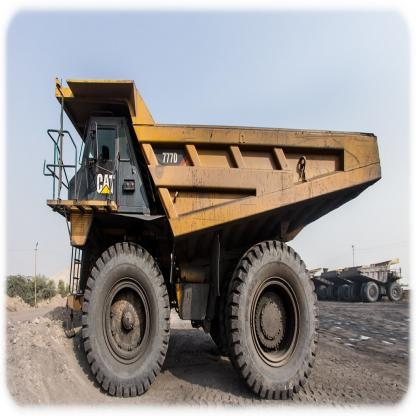dump_truck: (48, 64, 385, 389), (354, 258, 404, 304), (337, 263, 358, 301)
